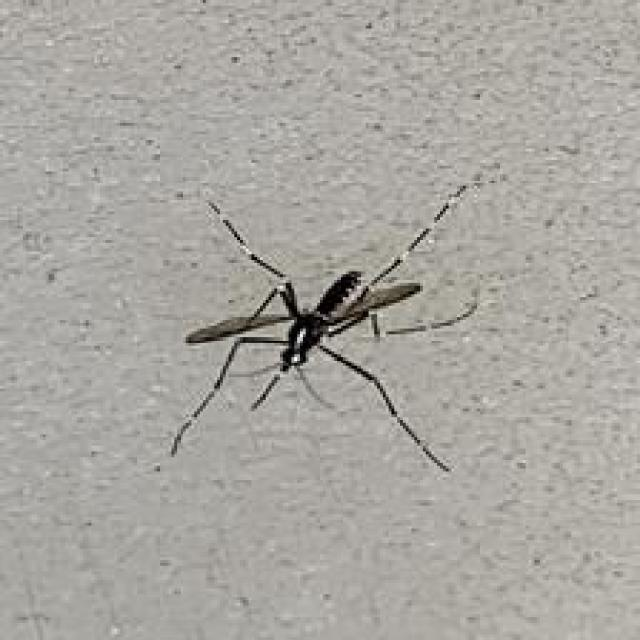Aedes albopictus: (167, 177, 490, 474)
